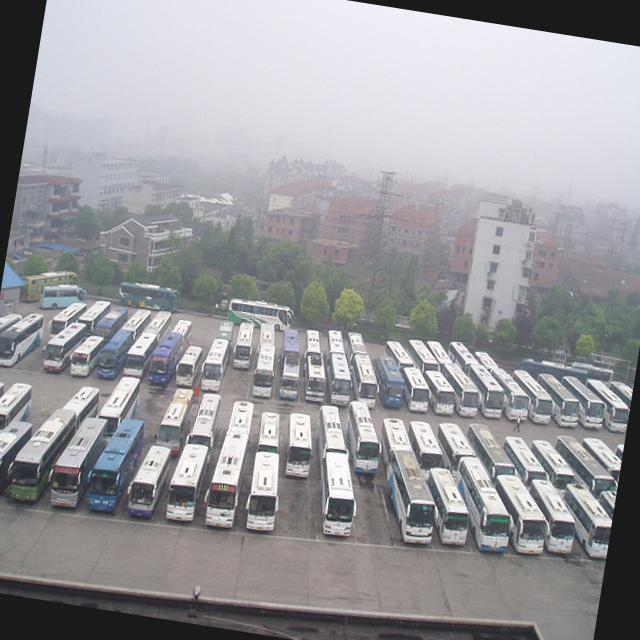Vehicle: (0, 257, 638, 600), (8, 401, 81, 509), (376, 448, 448, 546), (205, 424, 252, 532), (312, 451, 366, 538), (124, 442, 174, 522), (338, 399, 388, 476), (243, 451, 287, 534), (309, 404, 355, 481), (0, 412, 36, 500), (280, 406, 318, 479), (376, 415, 420, 471), (255, 410, 285, 456), (228, 400, 254, 436)
